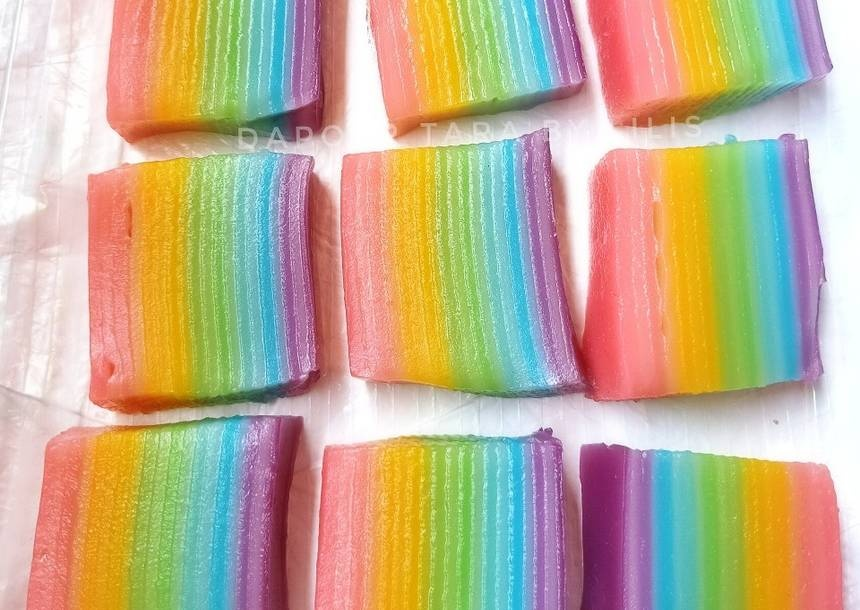kue_lapis_pelangi: (337, 116, 585, 399), (572, 134, 825, 400), (76, 150, 313, 405), (26, 410, 301, 610), (312, 434, 563, 610), (582, 444, 840, 610)
